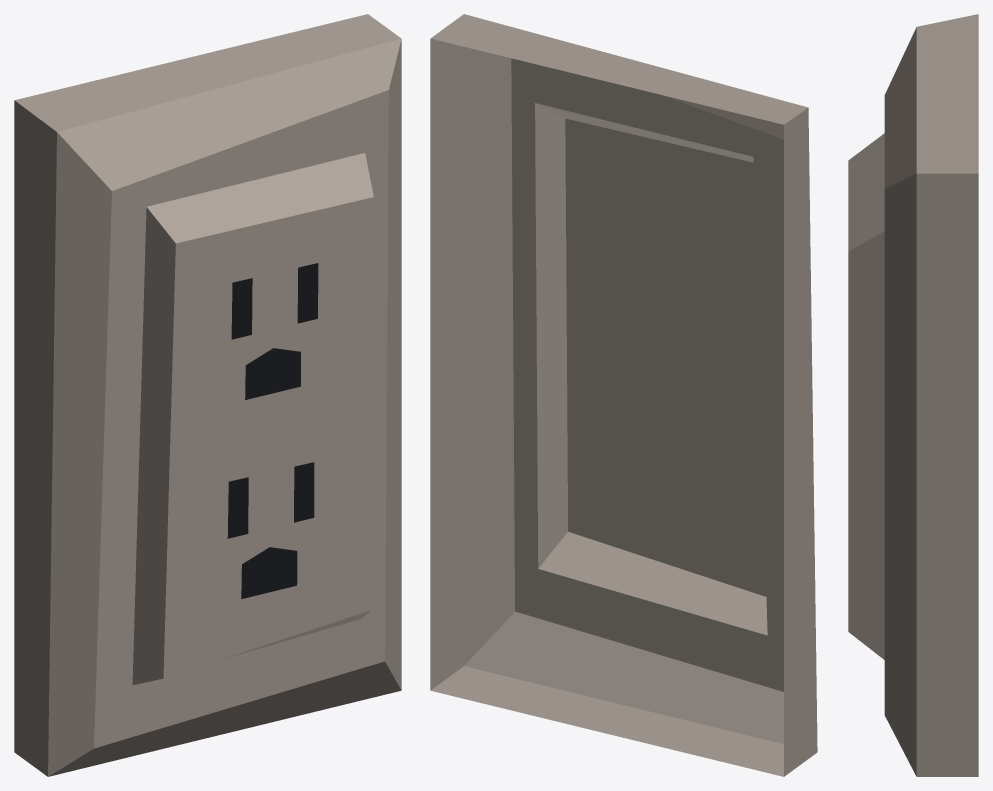
Rendered from SM_Socket.fbx.
3 renders of one model, left to right at view 1: azimuth 30°, elevation 25°; view 2: azimuth 150°, elevation 25°; view 3: azimuth 270°, elevation 25°, orthographic. The views are drawn at different scales.
Visible parts, largest first — view 1: SM_Socket; view 2: SM_Socket; view 3: SM_Socket.
Part boxes in pixels (left/top/right/bottom): SM_Socket: left=14, top=14, right=401, bottom=776; SM_Socket: left=430, top=14, right=817, bottom=776; SM_Socket: left=848, top=14, right=978, bottom=776.
Bounding box in the file's own units: 12.7 × 22.38 × 4.45.
